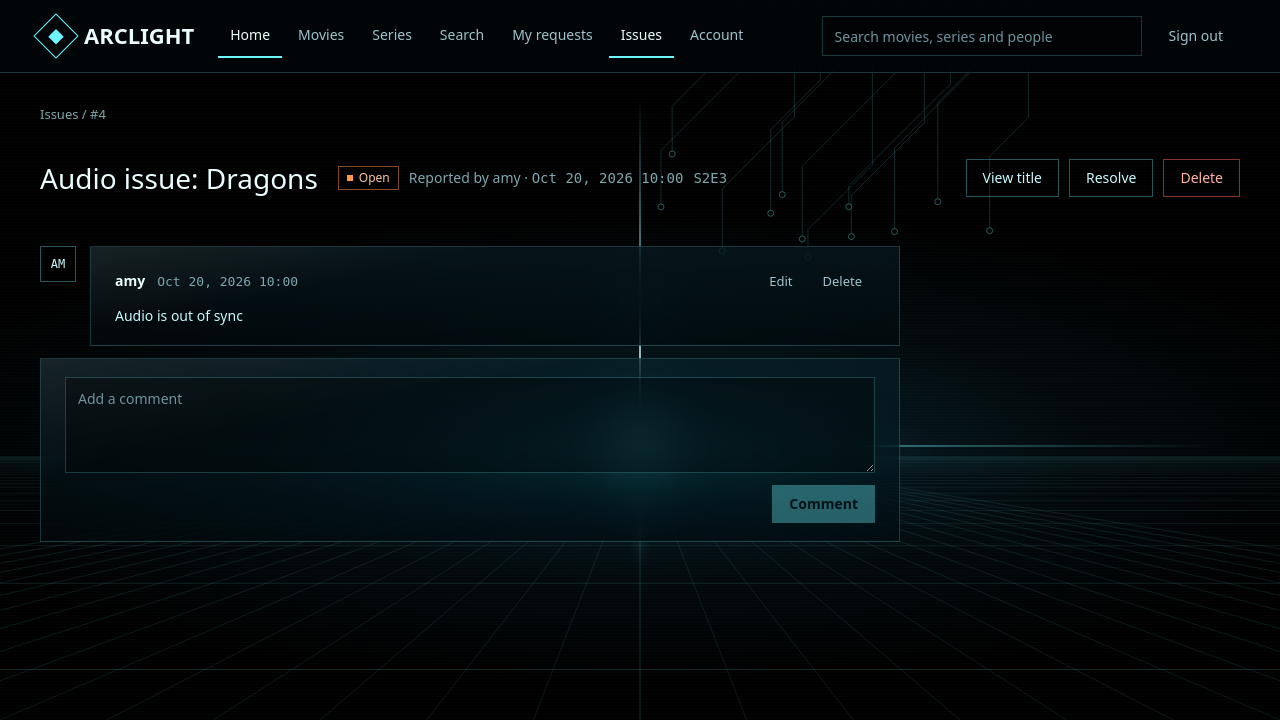
Scenario: issue detail › posts a comment, edits own comment and resolves
Check: the text "Audio is out of sync" is shown, box [115, 306, 243, 325]
Check: the text "S2E3" is shown, box [693, 168, 727, 188]
Type "Still broken in E4" into the text box named "New comment". click: (470, 425)
box: [65, 377, 875, 473]
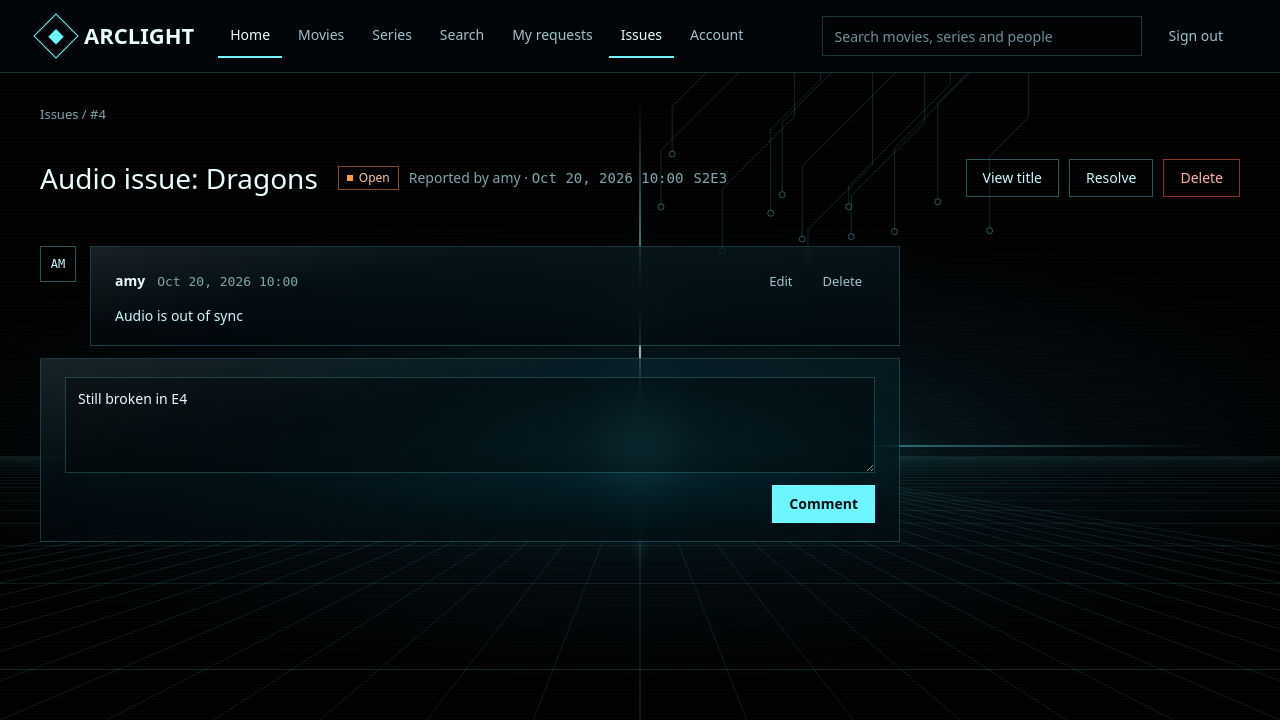
Click the button "Comment". click: (824, 504)
box: [772, 485, 875, 523]
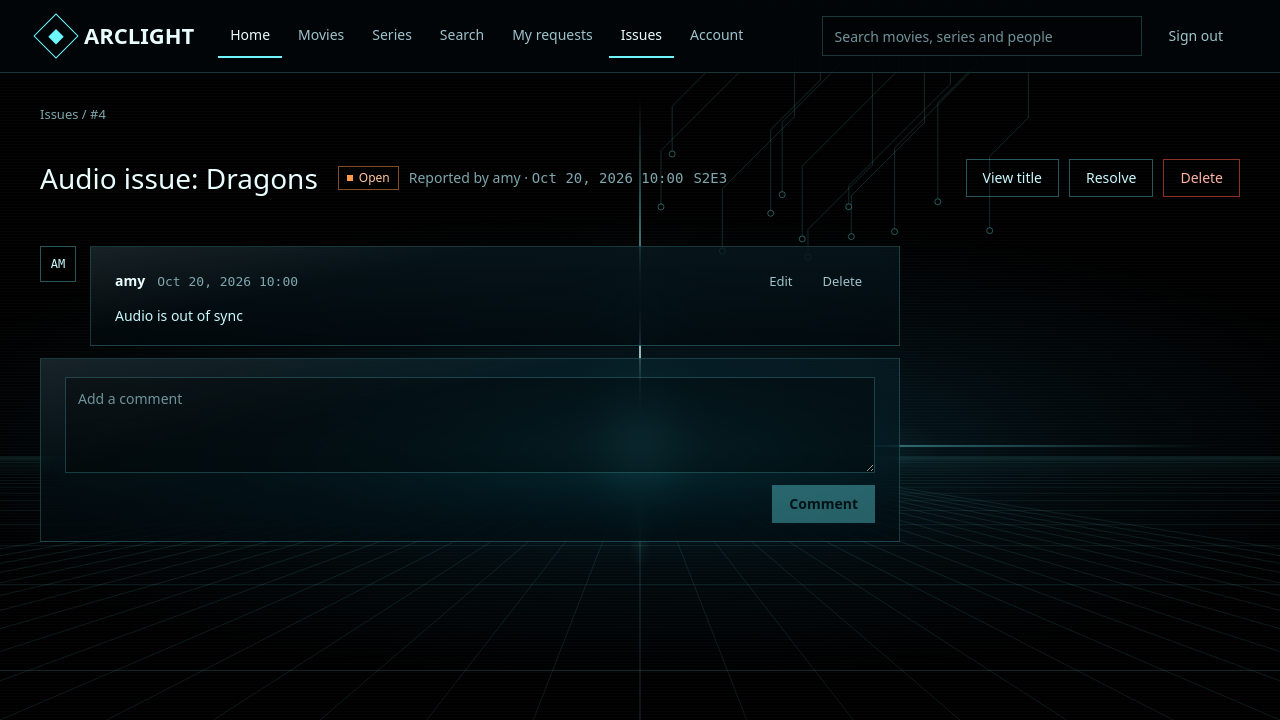
Check: the text box named "New comment" is empty, box [65, 377, 875, 473]
Click the button "Edit". click: (781, 281)
box: [756, 265, 806, 297]
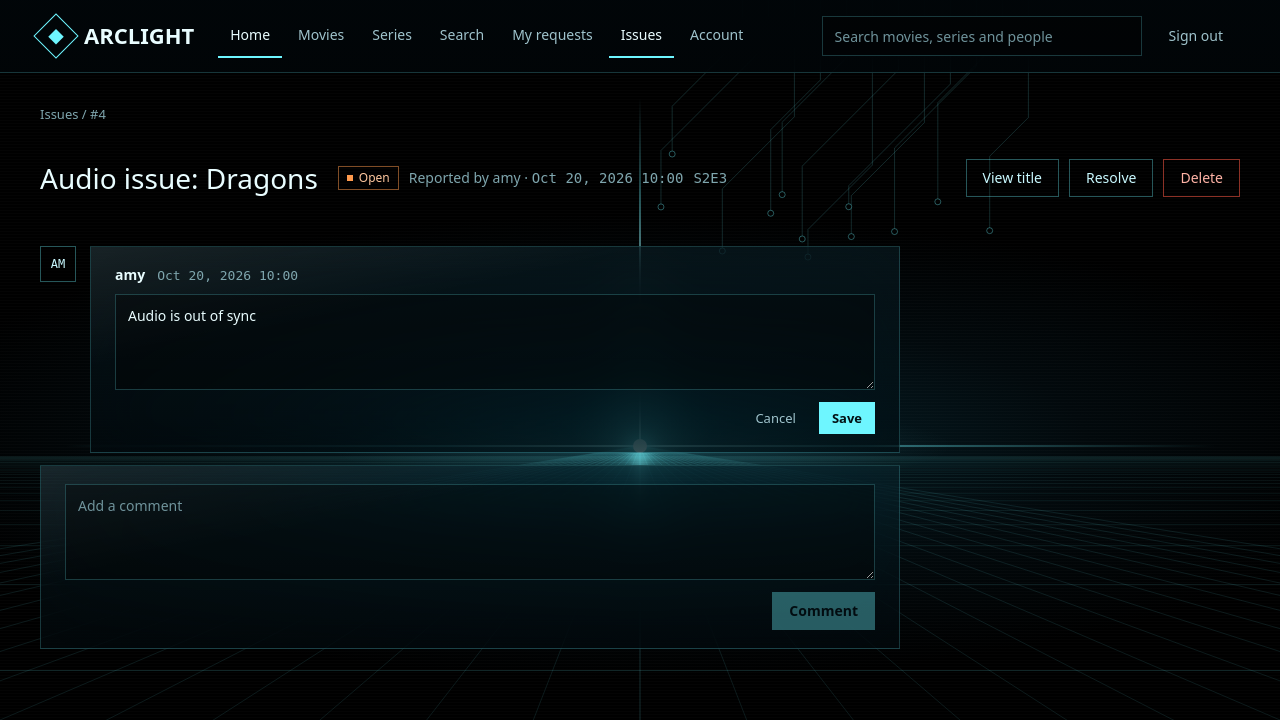
Replace the text in the text box named "Edit comment" with "Audio drifts after 10 minutes". click: (495, 342)
box: [115, 294, 875, 390]
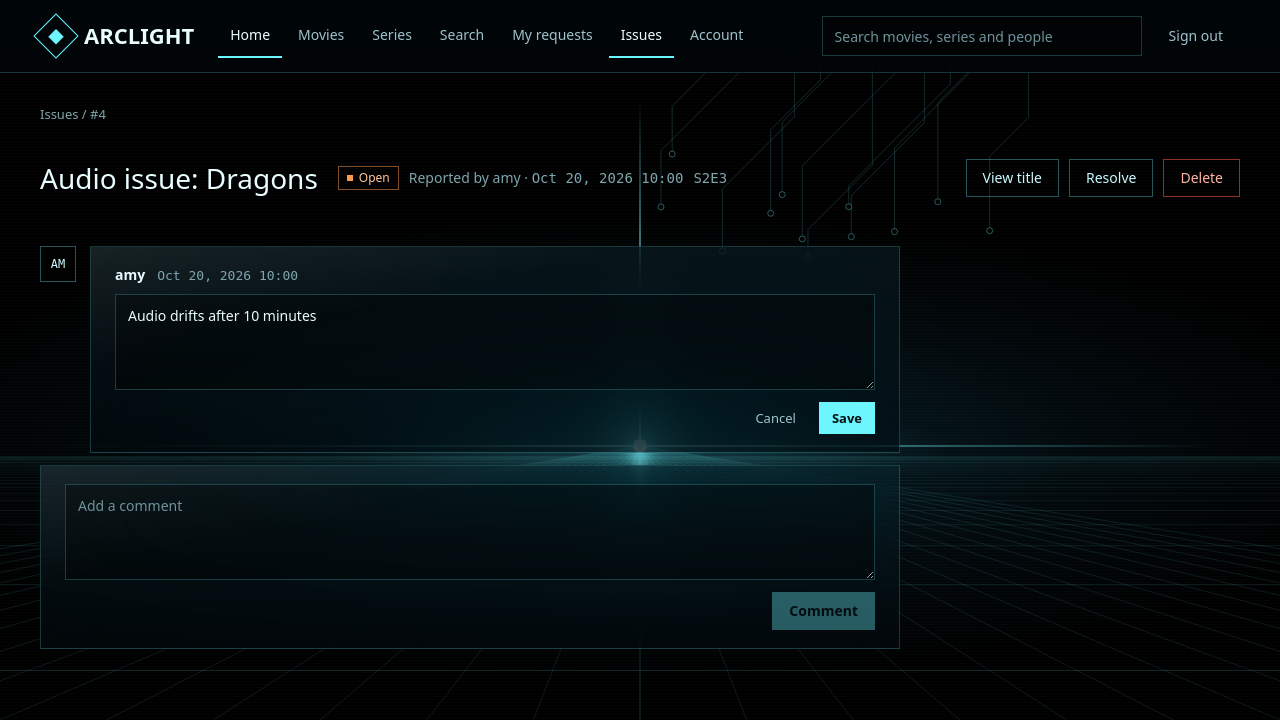
Click the button "Save". click: (847, 418)
box: [819, 402, 875, 434]
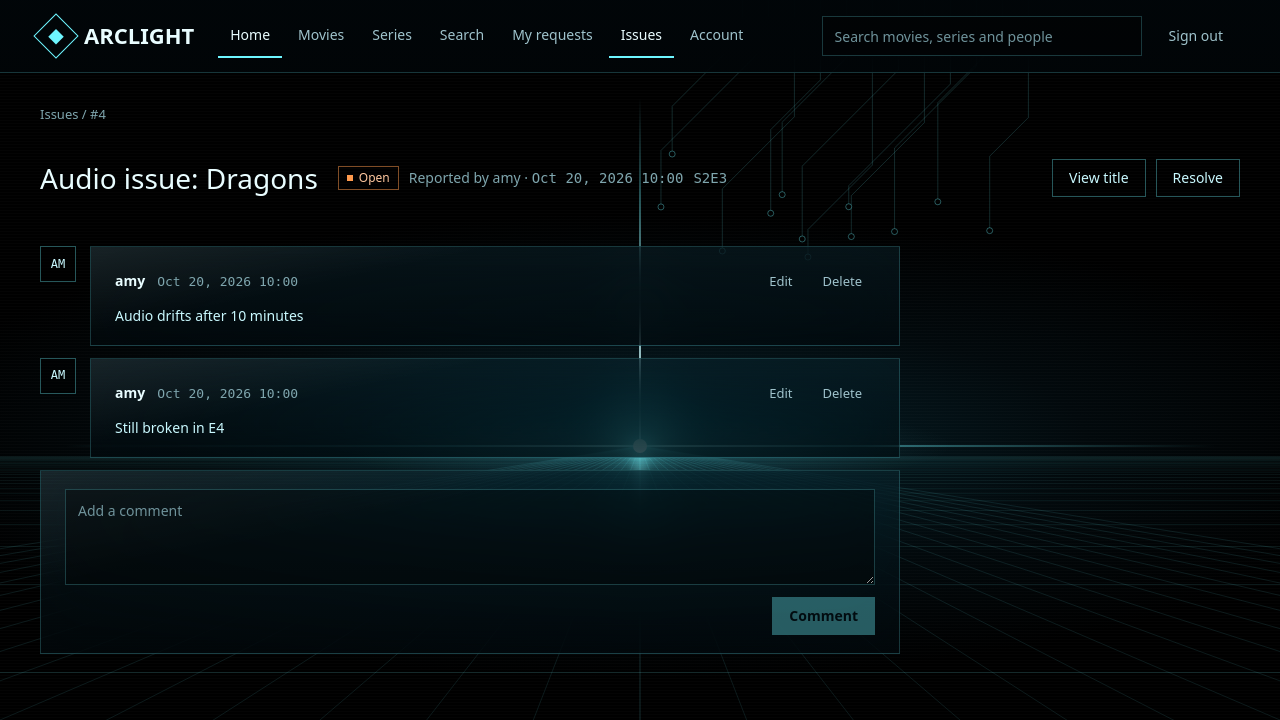
Check: the text "Audio drifts after 10 minutes" is shown, box [115, 306, 304, 325]
Click the button "Resolve". click: (1198, 178)
box: [1156, 159, 1240, 197]
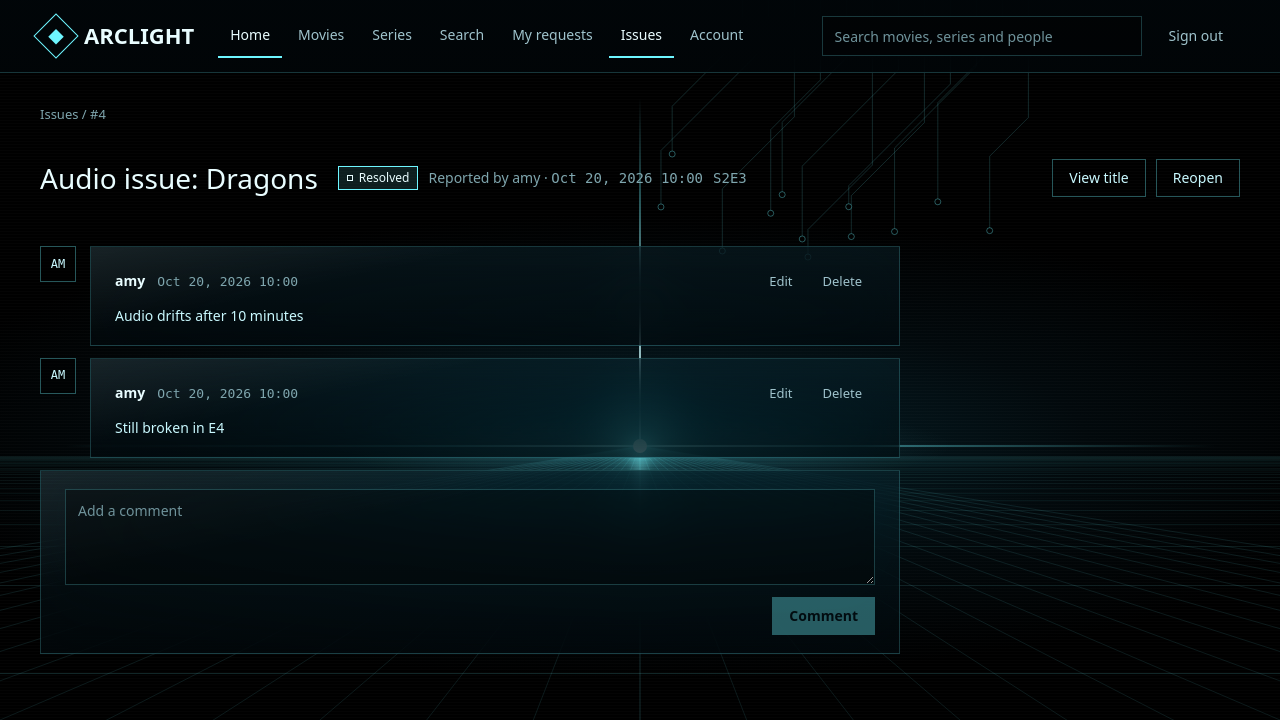
Check: the button "Reopen" is shown, box [1156, 159, 1240, 197]
